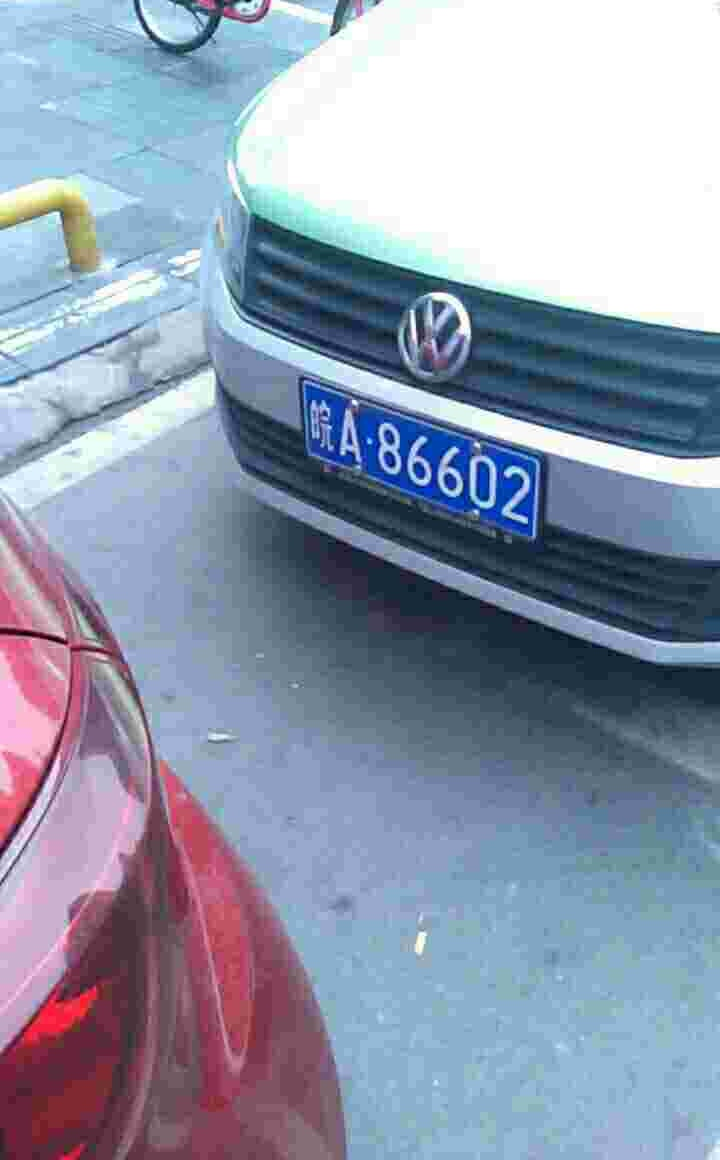license_plate: (290, 383, 542, 533)
